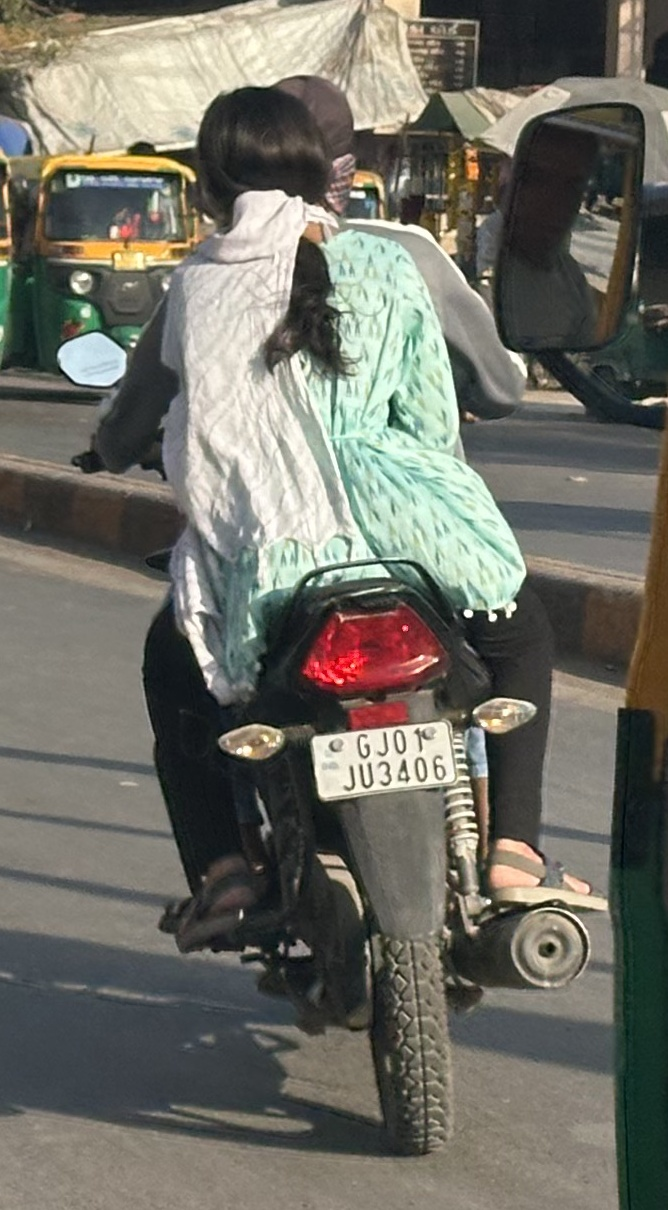BikeWithRider: (46, 55, 618, 1170)
NoHelmet: (176, 75, 355, 237), (248, 58, 377, 216)
